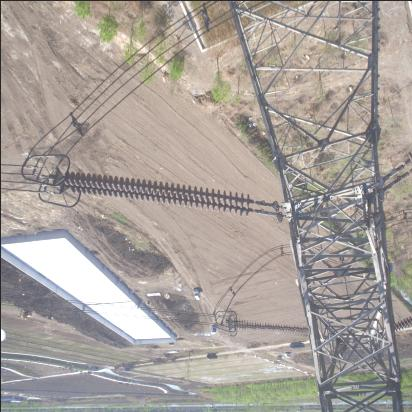insulator: (61, 170, 265, 218), (229, 317, 312, 341)
